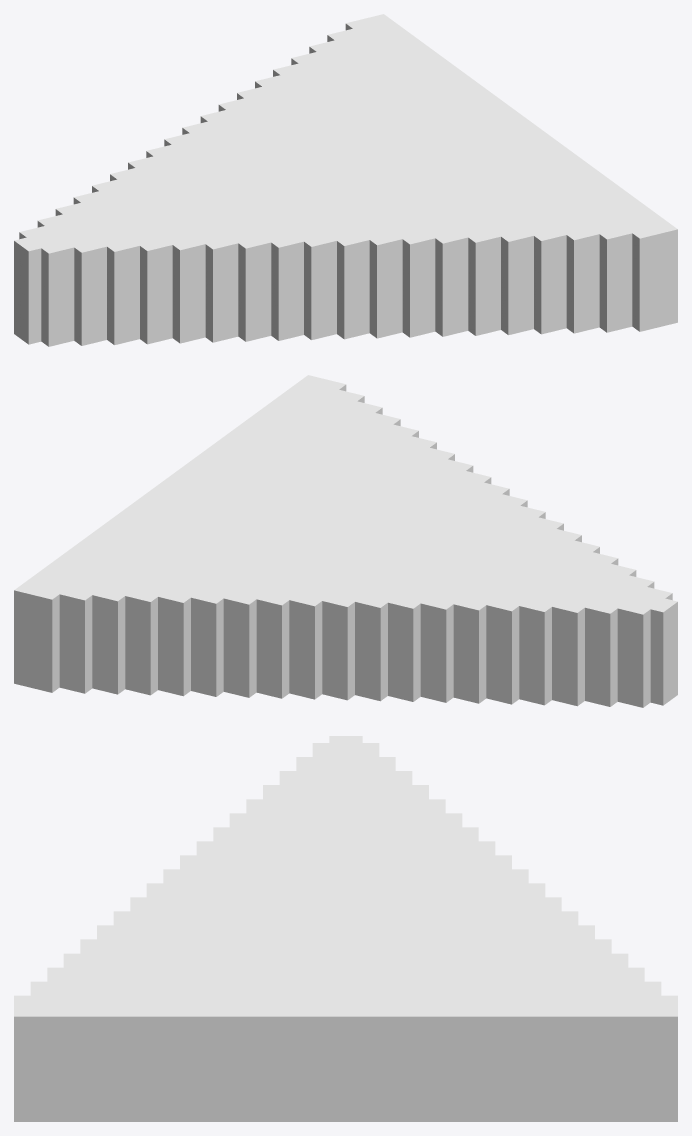
The model's file is Arrow.obj.
3 renders of one model, top to bottom at view 1: azimuth 30°, elevation 25°; view 2: azimuth 150°, elevation 25°; view 3: azimuth 270°, elevation 25°, orthographic. The views are drawn at different scales.
Parts seen in each view (by area): view 1: Arrow; view 2: Arrow; view 3: Arrow.
Part boxes in pixels (x1,y1,x2,y2): Arrow: (14, 14, 677, 346); Arrow: (14, 375, 677, 707); Arrow: (14, 736, 677, 1121).
Bounding box in the file's own units: 4 × 0.7 × 4.
